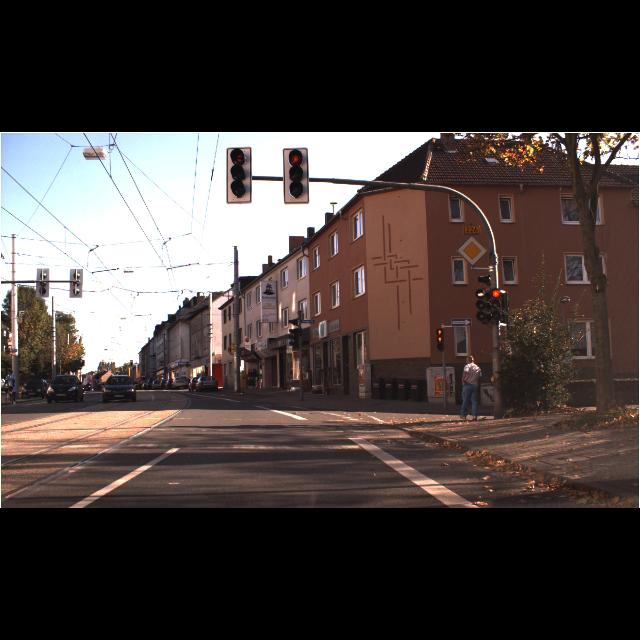other: (456, 235, 488, 267)
